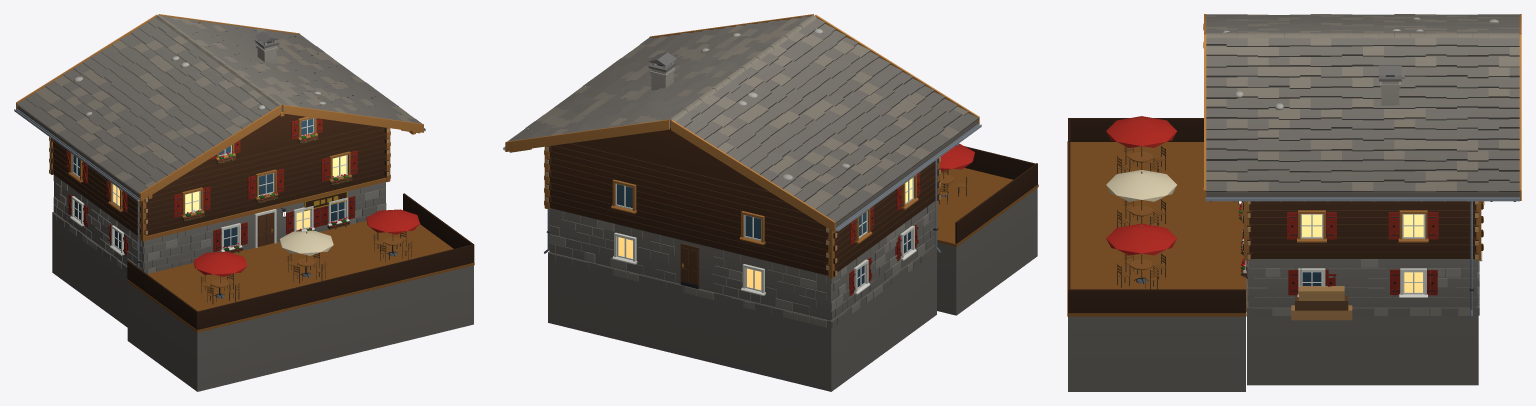
The model's file is Restaurant_Altitude.fbx.
3 views of the same model, side by side, from view 1: azimuth 30°, elevation 25°; view 2: azimuth 150°, elevation 25°; view 3: azimuth 270°, elevation 25° (orthographic). The views are drawn at different scales.
Visible parts, largest first — view 1: Restaurant_Altitude_LOD0; view 2: Restaurant_Altitude_LOD0; view 3: Restaurant_Altitude_LOD0.
Boxes of the visible parts, left/top/right/bottom form: Restaurant_Altitude_LOD0: left=14, top=14, right=474, bottom=391; Restaurant_Altitude_LOD0: left=503, top=14, right=1038, bottom=391; Restaurant_Altitude_LOD0: left=1067, top=14, right=1521, bottom=391.
Size of what is drawn, in the model's own units: 16.68 by 12.15 by 17.88.
1 material, 1 textured.
